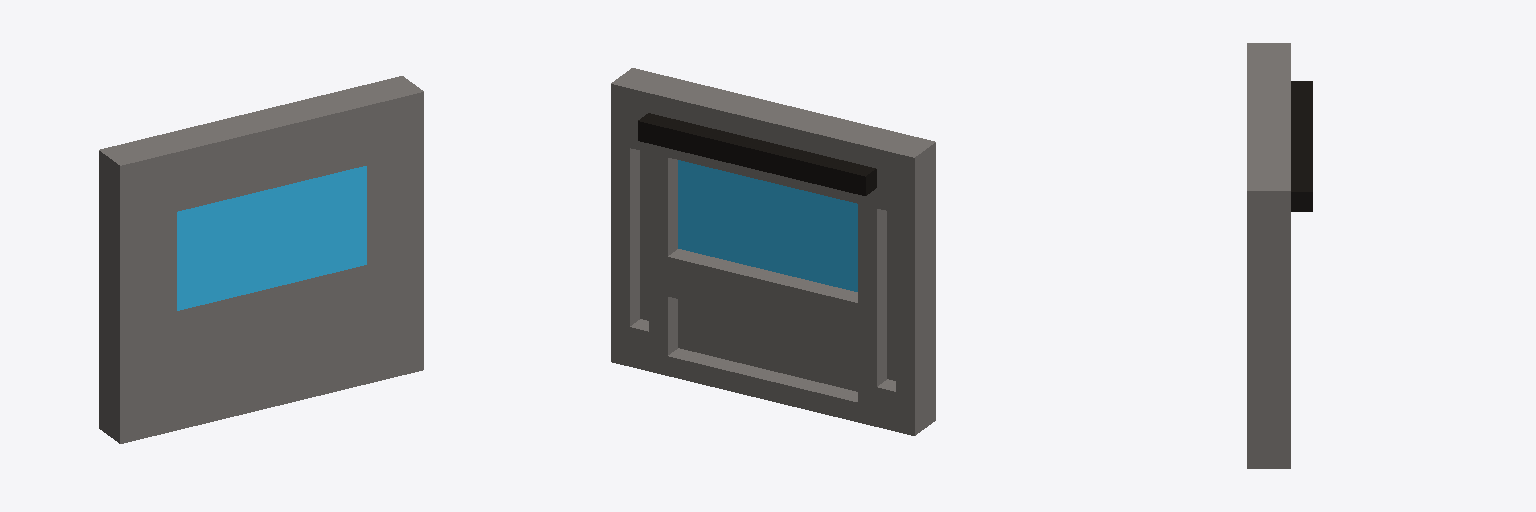
3 renders of one model, left to right at view 1: azimuth 30°, elevation 25°; view 2: azimuth 150°, elevation 25°; view 3: azimuth 270°, elevation 25°, orthographic.
Parts seen in each view (by area): view 1: Model; view 2: Model; view 3: Model.
Boxes of the visible parts, box(x1,y1,x2,y2) form: Model: box(99, 76, 423, 443); Model: box(611, 68, 935, 435); Model: box(1247, 43, 1312, 468).
Size of the model in its own units: 16 by 14 by 3.
1 materials, 1 textured.